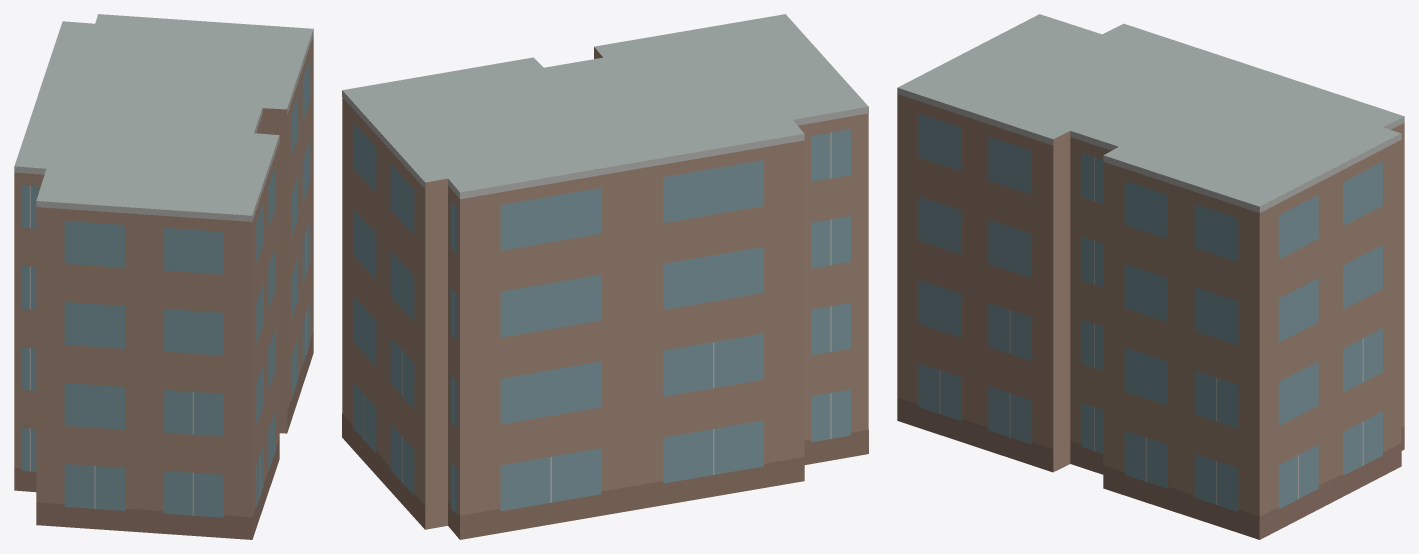
Rendered from survey-upis-32705494.glb.
The picture shows the model from 3 angles, left to right: view 1: azimuth 30°, elevation 25°; view 2: azimuth 150°, elevation 25°; view 3: azimuth 270°, elevation 25°; orthographic projection. The views are drawn at different scales.
Visible parts, largest first — view 1: survey-upis-32705494.tmp; view 2: survey-upis-32705494.tmp; view 3: survey-upis-32705494.tmp.
Part boxes in pixels (x1,y1,x2,y2): survey-upis-32705494.tmp: (14,14,313,539); survey-upis-32705494.tmp: (342,14,868,539); survey-upis-32705494.tmp: (897,14,1404,539).
Bounding box in the file's own units: 15.96 × 12.85 × 17.74.
